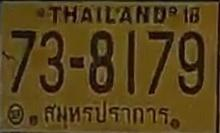1: (126, 30, 134, 94)
3: (38, 30, 64, 92)
7: (148, 30, 174, 94), (10, 29, 36, 92)
8: (88, 31, 113, 92)
9: (178, 30, 204, 94)
SPK: (40, 100, 174, 128)
